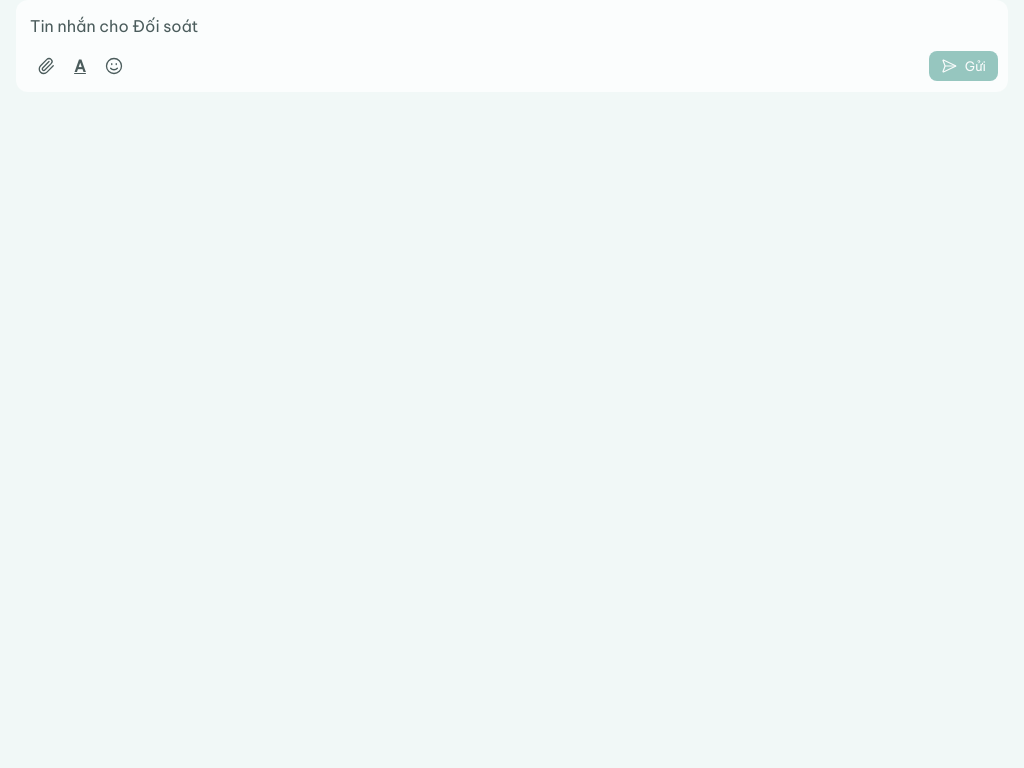
ChatEditor: the "+" sheet on a phone › has one button; its sheet holds the attach row and the cards below it, rows of 44px
Click the button named "Đính kèm" at coordinates (46, 66), box [30,50,62,82]
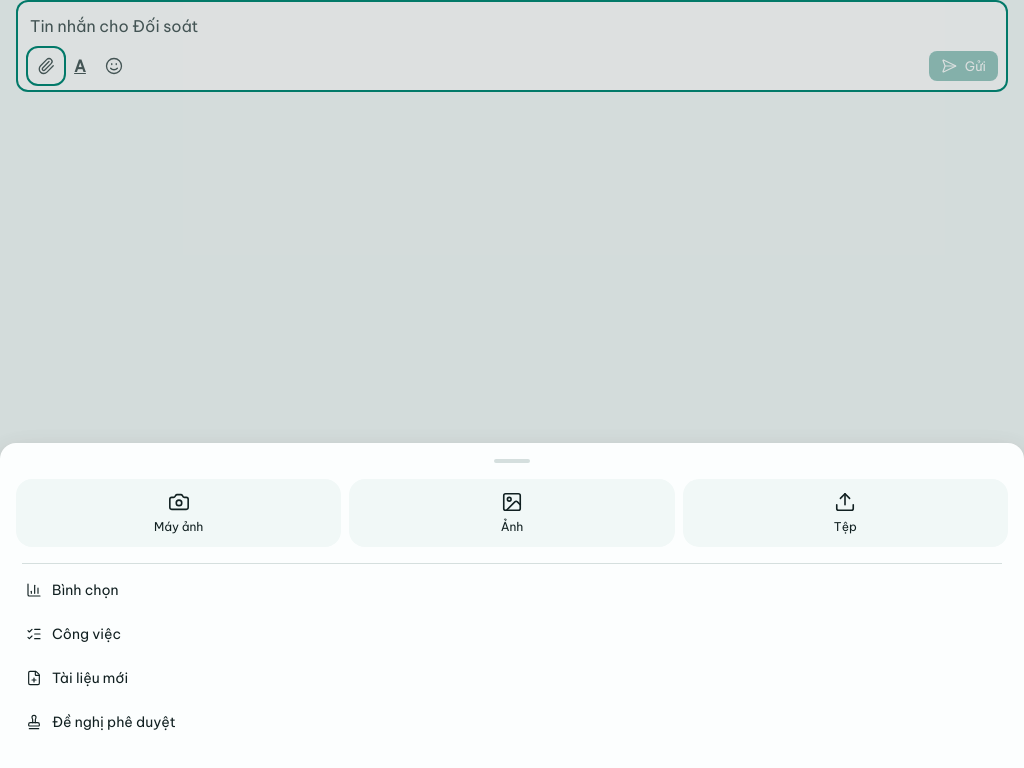
Check: the button "Máy ảnh" is shown, box [16,479,341,547]
Check: the button "Ảnh" is shown, box [349,479,675,547]
Check: the button "Tệp" is shown, box [683,479,1008,547]
